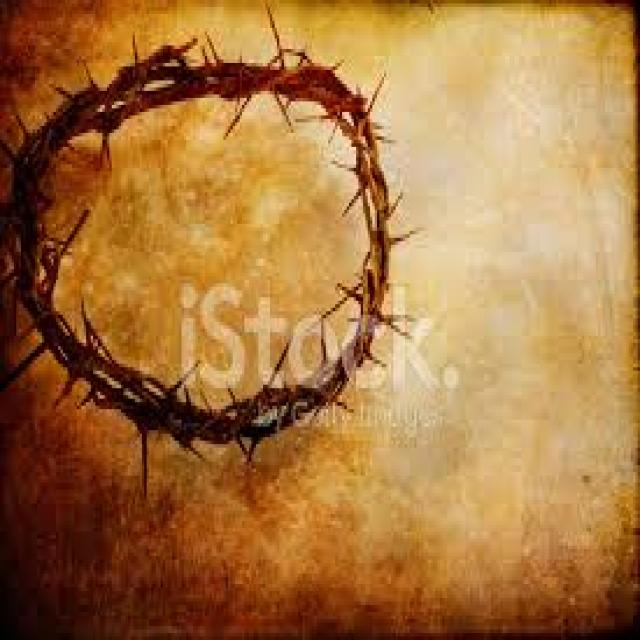crown: (0, 35, 418, 502)
